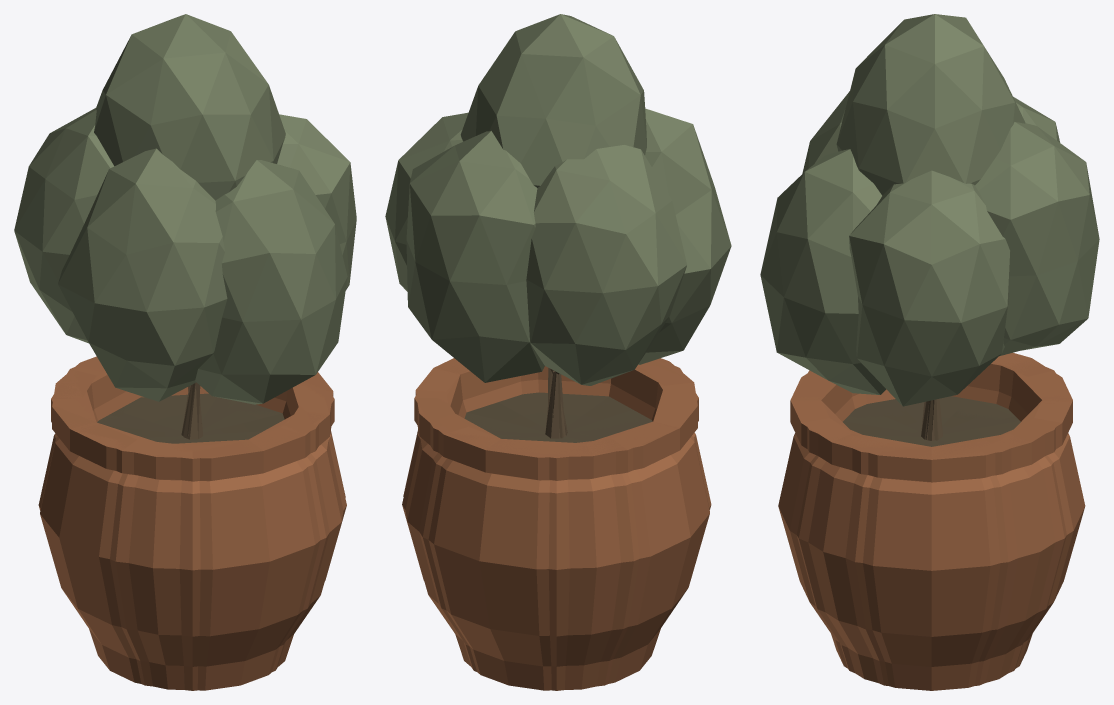
The model's file is courtyard_planter.glb.
The picture shows the model from 3 angles, left to right: view 1: azimuth 30°, elevation 25°; view 2: azimuth 150°, elevation 25°; view 3: azimuth 270°, elevation 25°; orthographic projection.
Visible parts, largest first — view 1: courtyard_planter_detail, courtyard_planter_medium, courtyard_planter_far; view 2: courtyard_planter_detail, courtyard_planter_medium, courtyard_planter_far; view 3: courtyard_planter_detail, courtyard_planter_medium, courtyard_planter_far.
Part boxes in pixels (x1,y1,x2,y2): courtyard_planter_detail: [14, 14, 356, 690]; courtyard_planter_medium: [38, 366, 346, 690]; courtyard_planter_far: [56, 371, 329, 456]; courtyard_planter_detail: [385, 14, 731, 690]; courtyard_planter_medium: [402, 359, 711, 690]; courtyard_planter_far: [420, 360, 693, 455]; courtyard_planter_detail: [760, 14, 1099, 690]; courtyard_planter_medium: [791, 361, 1072, 685]; courtyard_planter_far: [791, 354, 1072, 459].
Size of the model in its own units: 1.12 by 2.28 by 1.1.
